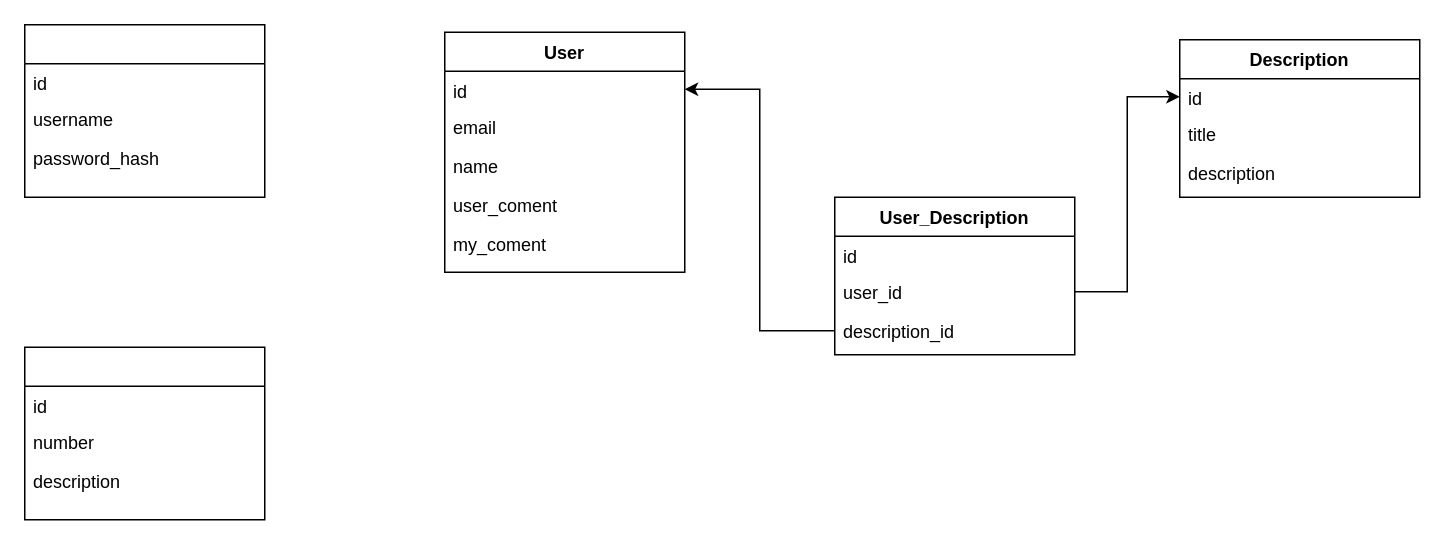
The diagram is 1445 pixels wide and 545 high, and some of its shapes have lost their labels. Each missing label, with the box of its shape:
Admin: (23, 23, 265, 197)
Cell: (23, 346, 265, 520)
